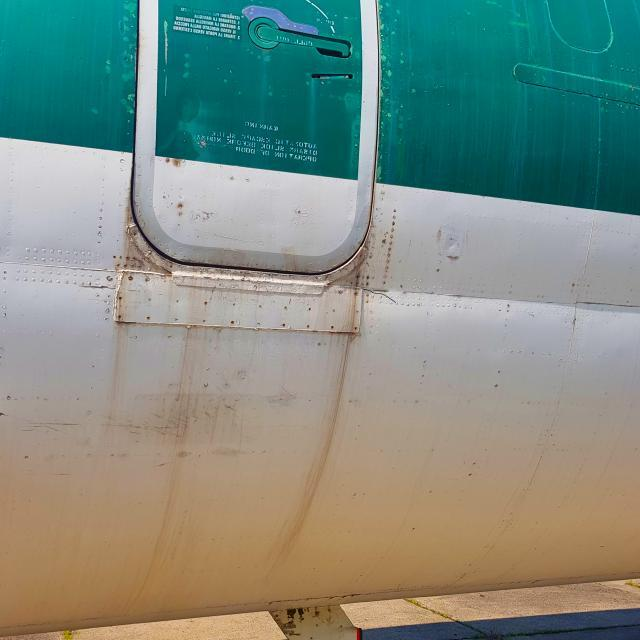crack: (364, 284, 402, 308)
